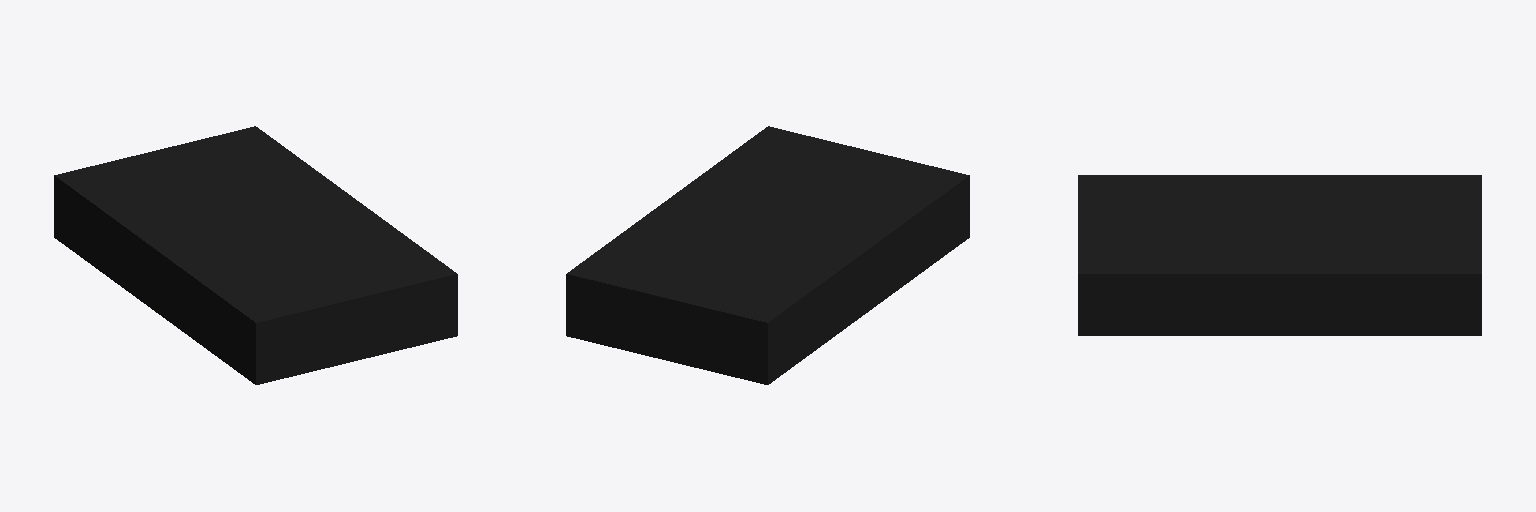
The model's file is warehouse.obj.
3 renders of one model, left to right at view 1: azimuth 30°, elevation 25°; view 2: azimuth 150°, elevation 25°; view 3: azimuth 270°, elevation 25°, orthographic.
Parts seen in each view (by area): view 1: Cube_Cube.001; view 2: Cube_Cube.001; view 3: Cube_Cube.001.
Part boxes in pixels (left/top/right/bottom): Cube_Cube.001: left=54, top=126, right=457, bottom=384; Cube_Cube.001: left=566, top=126, right=969, bottom=384; Cube_Cube.001: left=1078, top=175, right=1481, bottom=335.
Size of the model in its own units: 7.92 by 2.36 by 13.72.